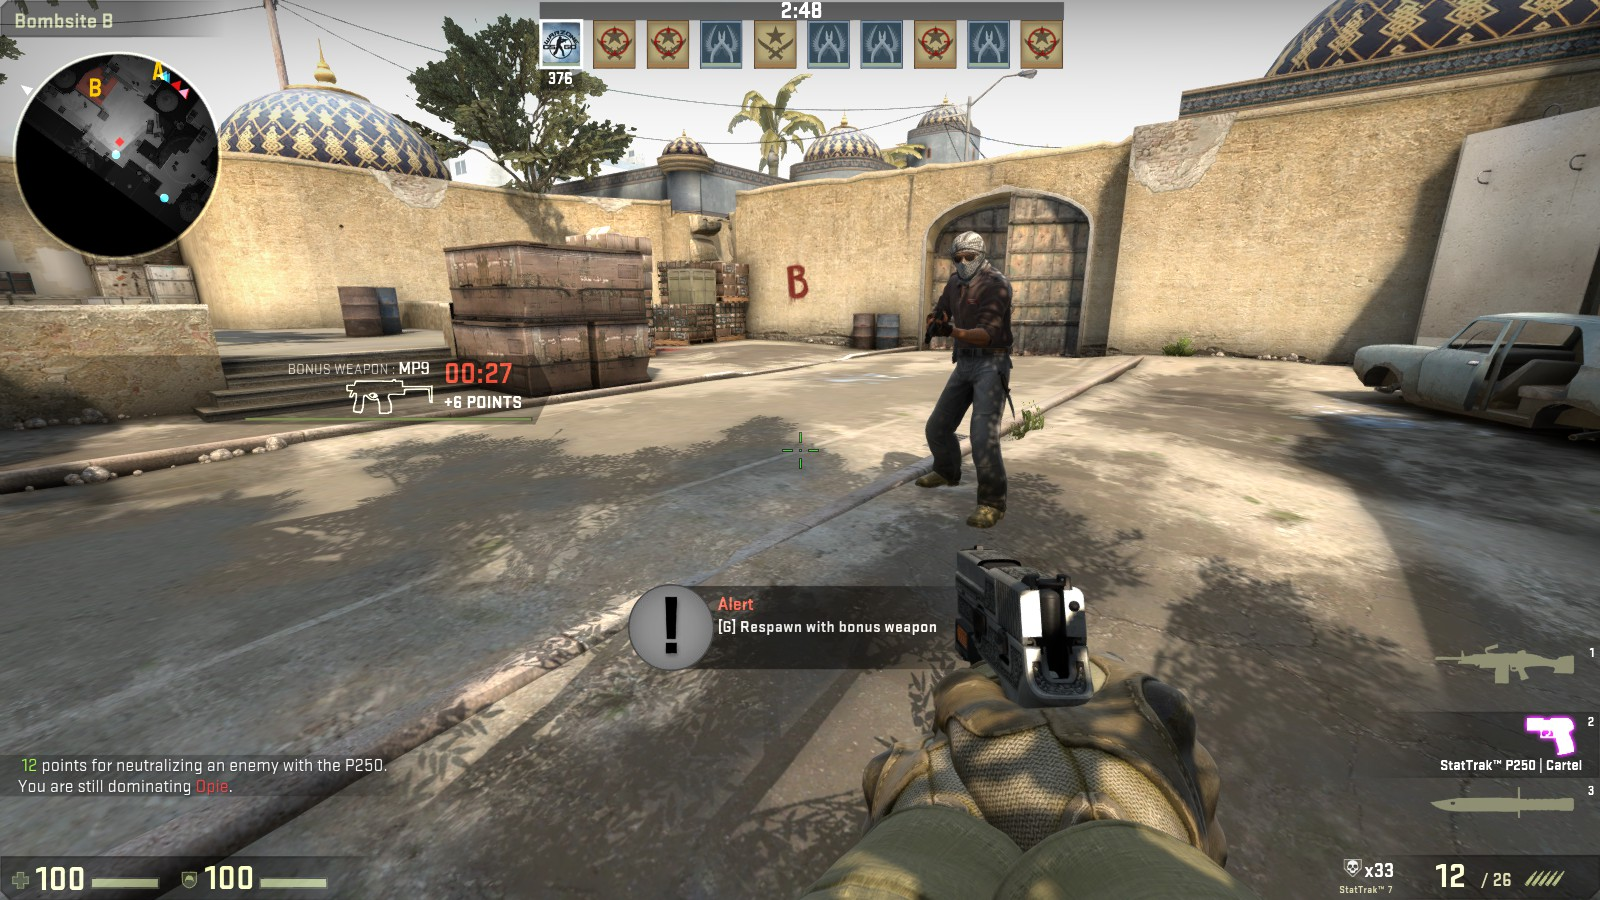t: (911, 226, 1024, 530)
th: (946, 227, 991, 288)
